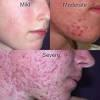Acne: (32, 56, 66, 77), (28, 70, 53, 98), (0, 55, 16, 80), (4, 66, 23, 86), (73, 21, 88, 39), (3, 88, 27, 99), (8, 57, 28, 64)
